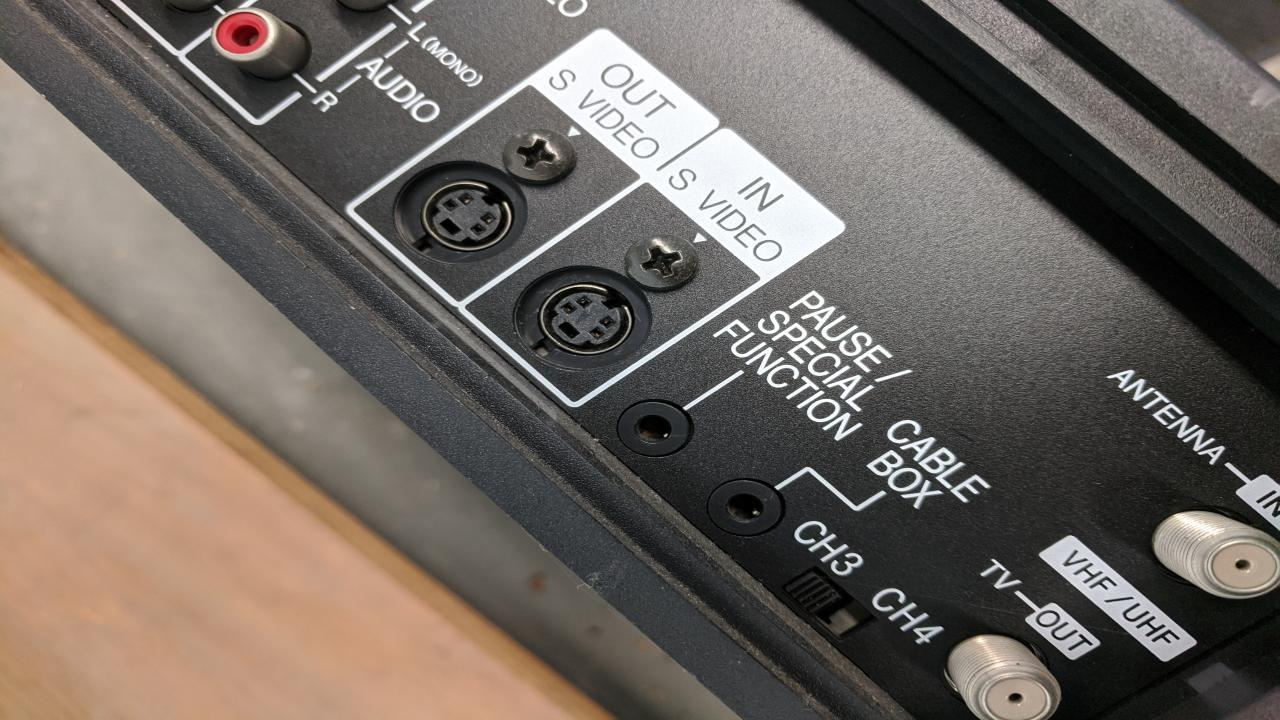CRS: (499, 129, 582, 189), (618, 232, 698, 287)
